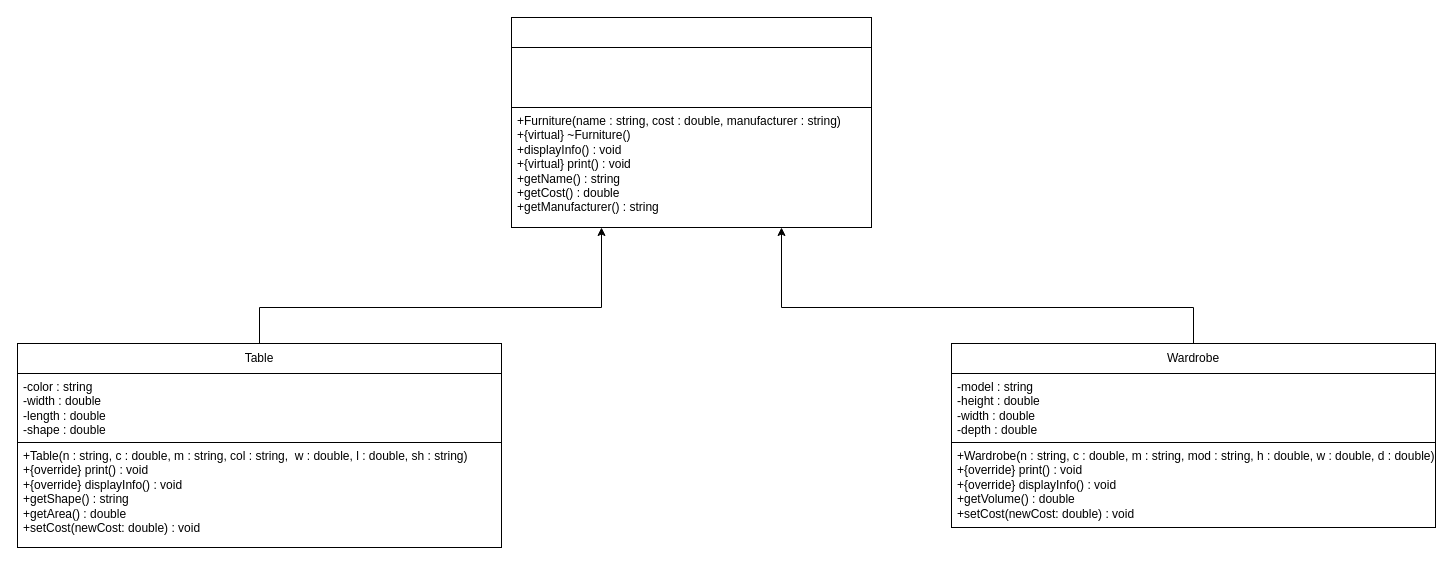
The diagram is 1453 pixels wide and 565 high, and some of its shapes have lost their labels. The centre of each missing label's shape, as x and y in pixels:
#name : string #cost : double #manufacturer : string: (x=691, y=77)
Furniture: (x=691, y=32)
